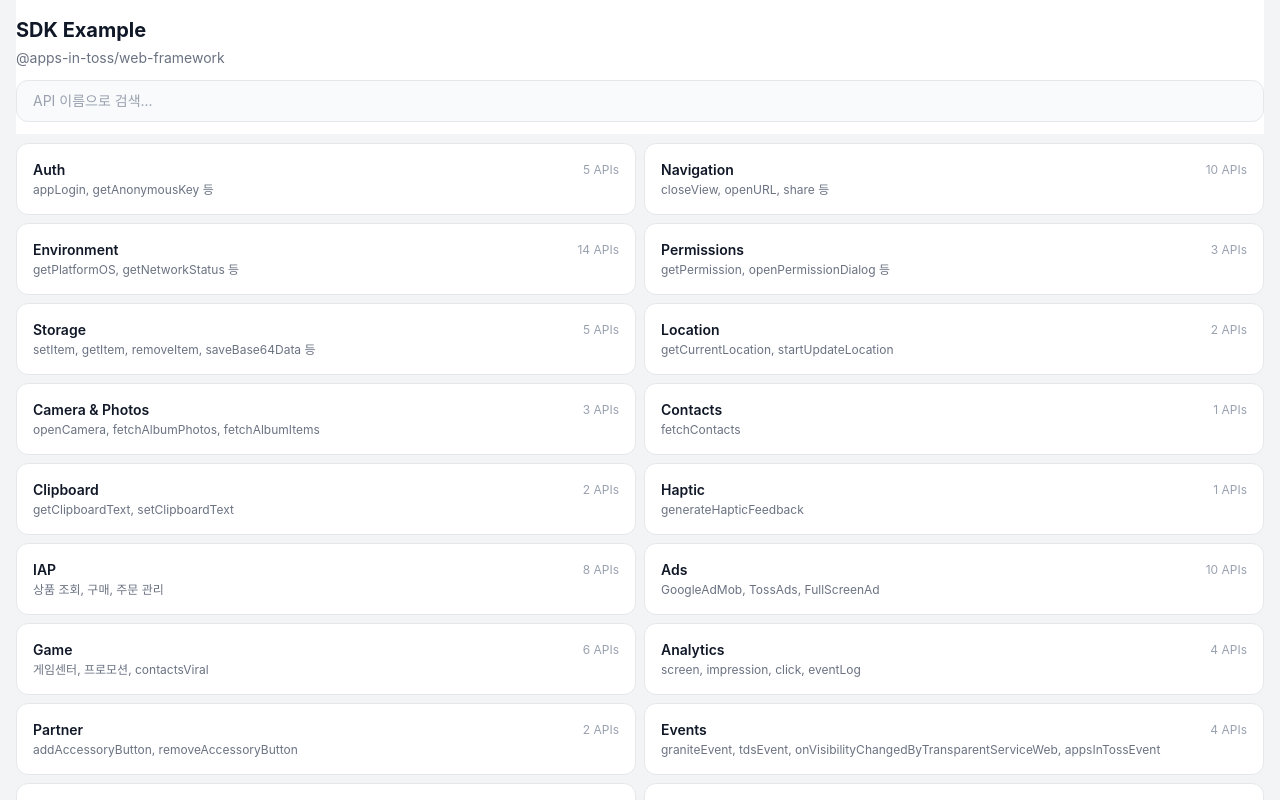
Test: HomePage › filters domain cards by API name
Expected: the heading "Auth" is shown, [33,160,65,180]
Expected: the heading "Storage" is shown, [33,320,86,340]
Type "appLogin" into the search field with placeholder "API 이름으로 검색..." at point(640, 101), box [16,80,1264,122]
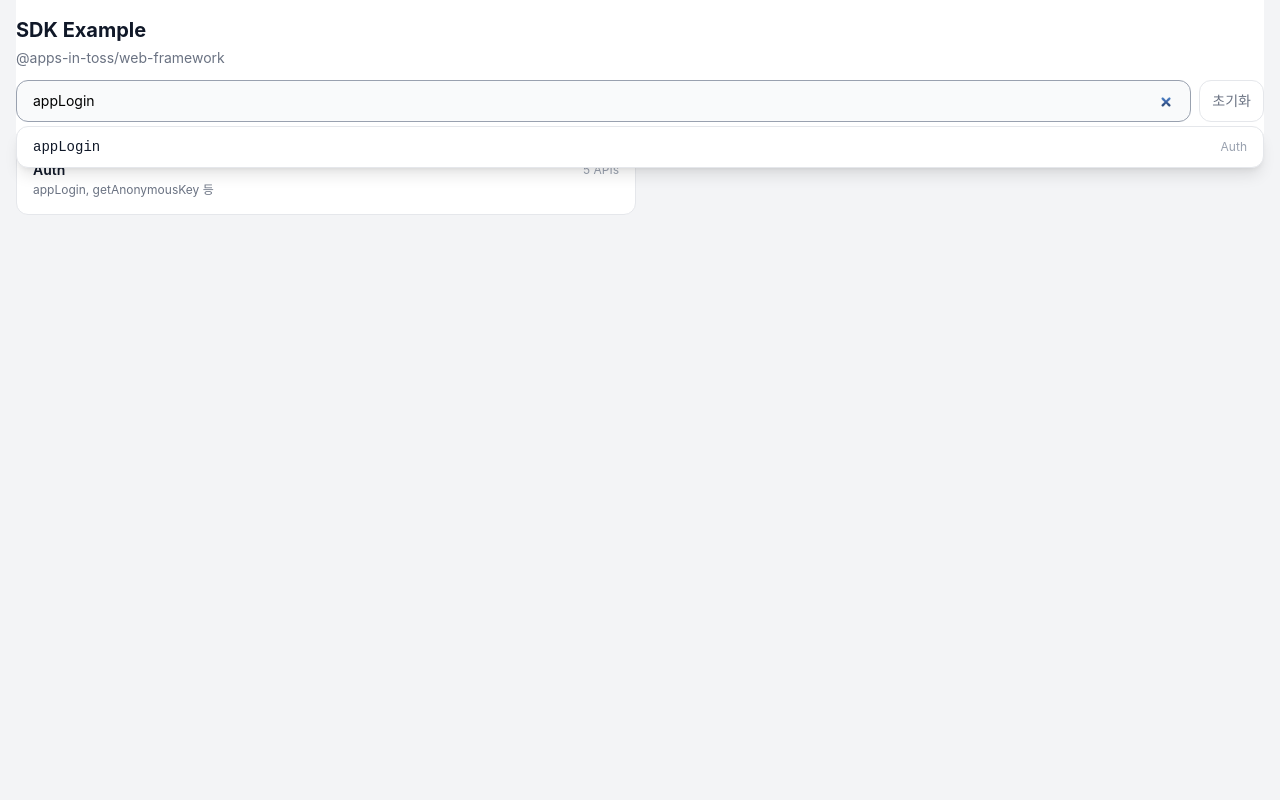
Expected: the heading "Auth" is shown, [33,160,65,180]
Expected: the link "Storage" is gone
